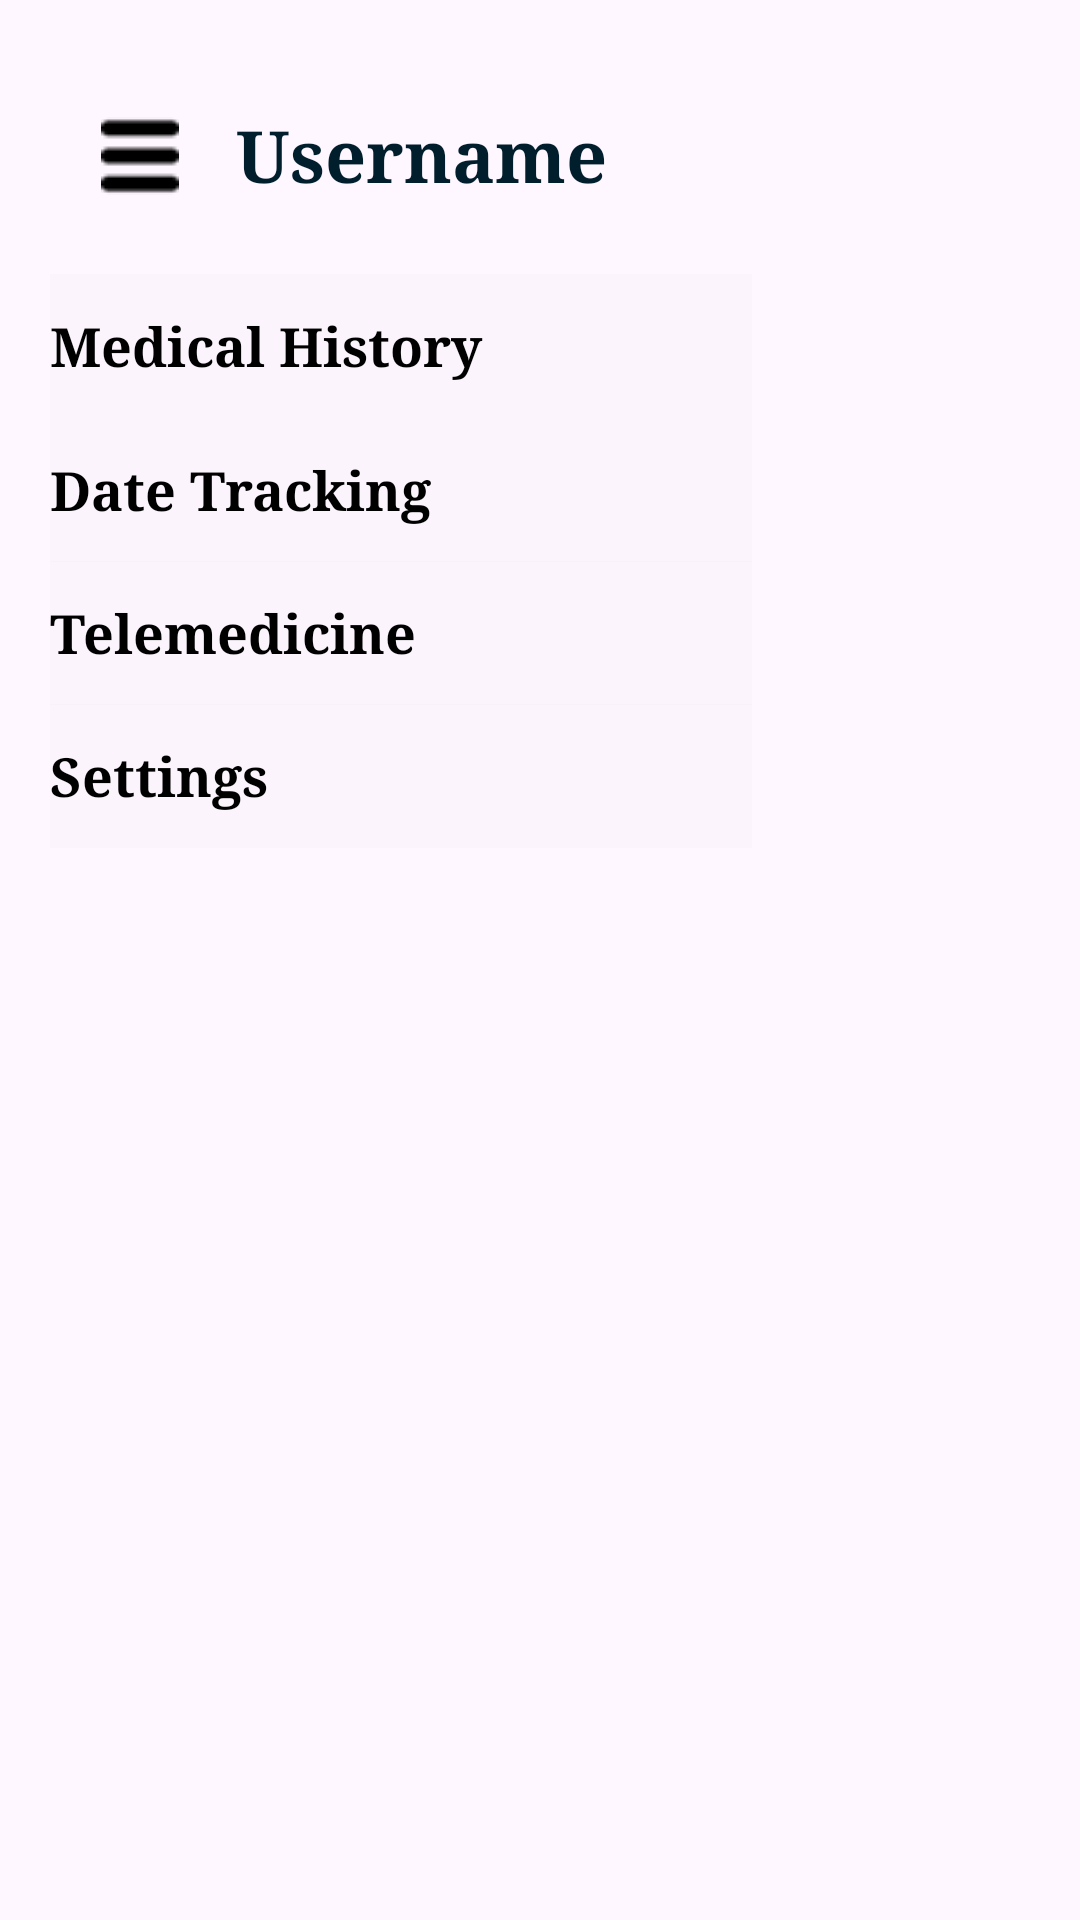

Screen size 1080 × 1920. Icon name, then its box in pixels as (x1, y1, x2, y2):
Side Menu: (101, 119, 179, 193)
